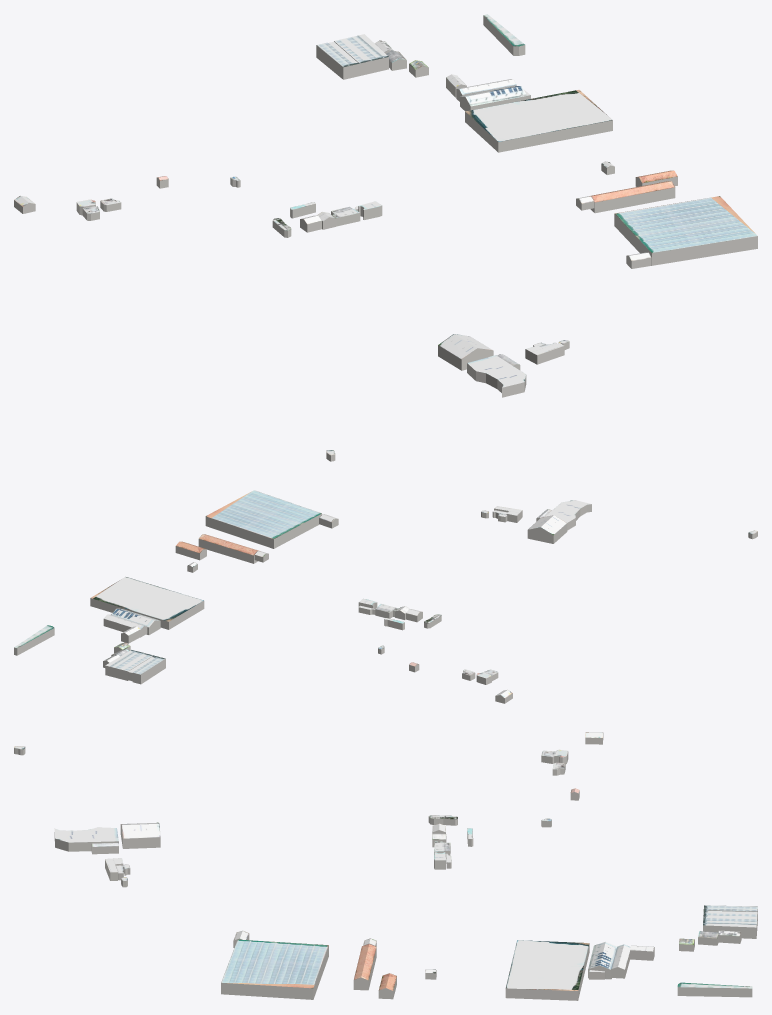
File: farm.glb
3 views of the same model, one above another, from view 1: azimuth 30°, elevation 25°; view 2: azimuth 150°, elevation 25°; view 3: azimuth 270°, elevation 25° (orthographic). The views are drawn at different scales.
Size of the model in its own units: 367 by 19.02 by 461.
Materials: 2 (1 with a texture image).
